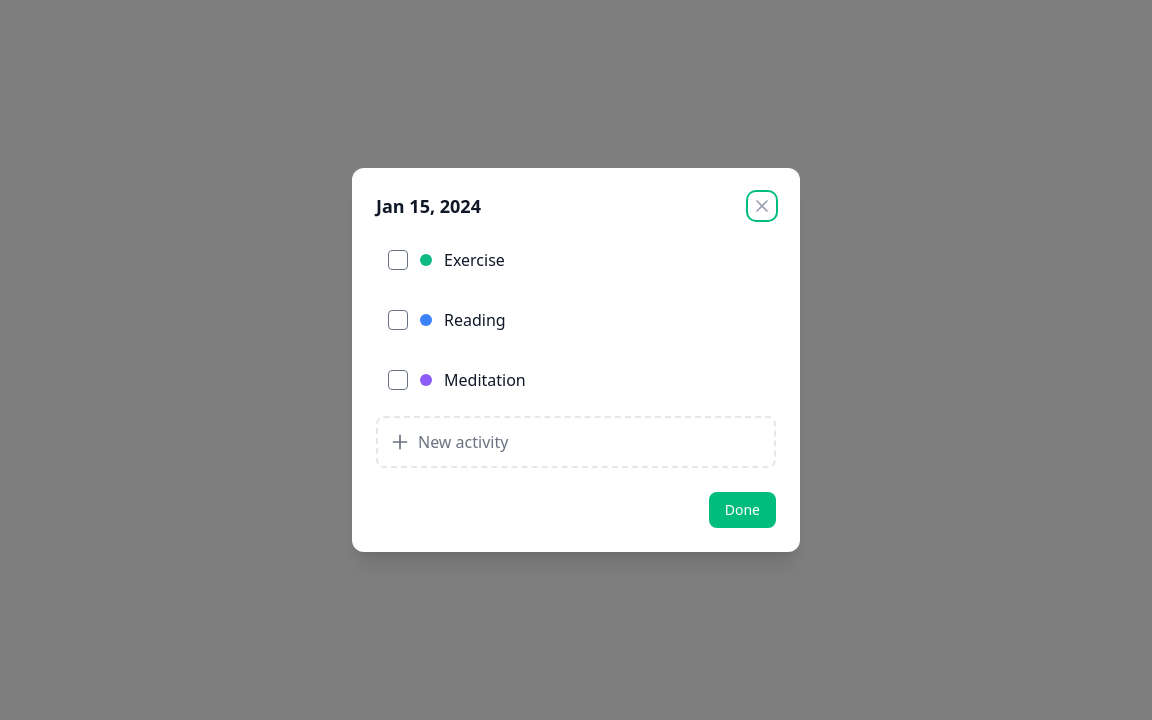
Scenario: QuickLog › Activity List › bounces the checkbox and not the row it sits in
This screenshot has width=1152, height=720.
Click the checkbox with test id "quicklog-activity-checkbox" showing "Exercise" at [398, 260], box [388, 250, 408, 270]
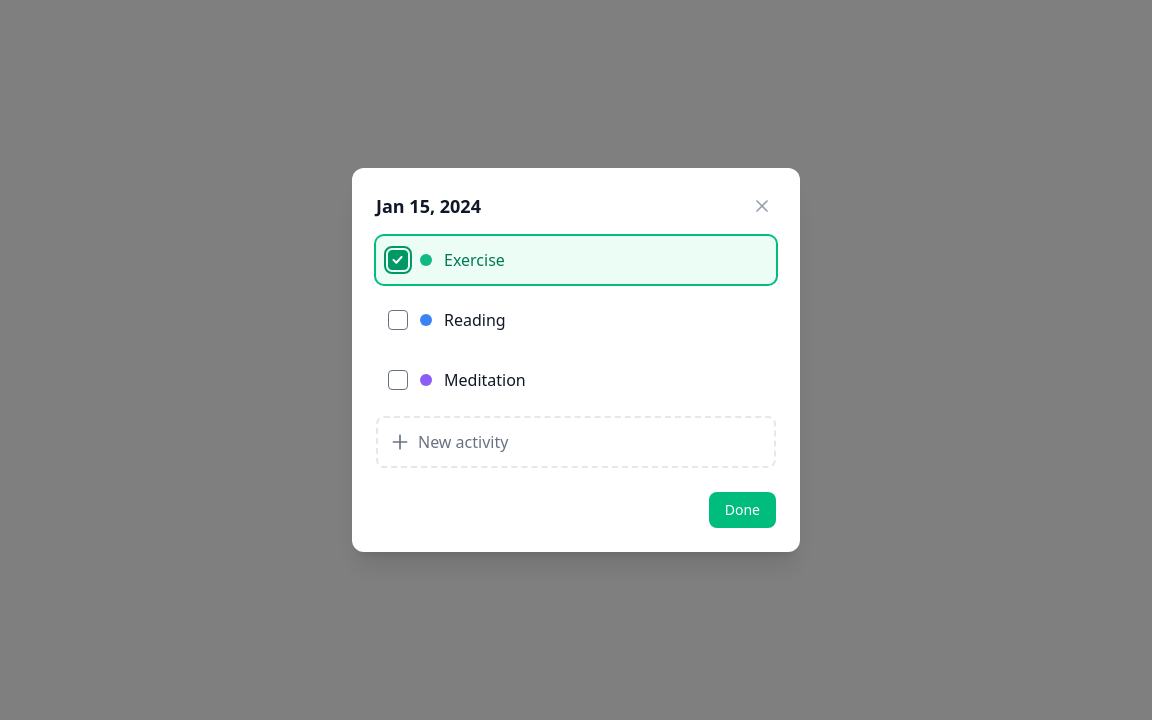
Expected: the checkbox with test id "quicklog-activity-checkbox" has class "checkbox-bounce", [388, 250, 408, 270]
